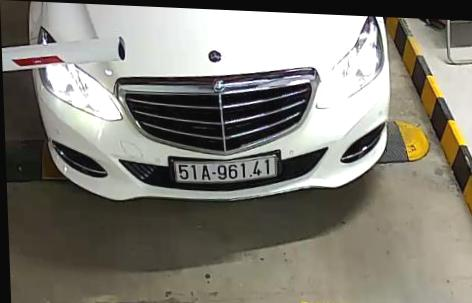License_Plate: (169, 151, 281, 192)
